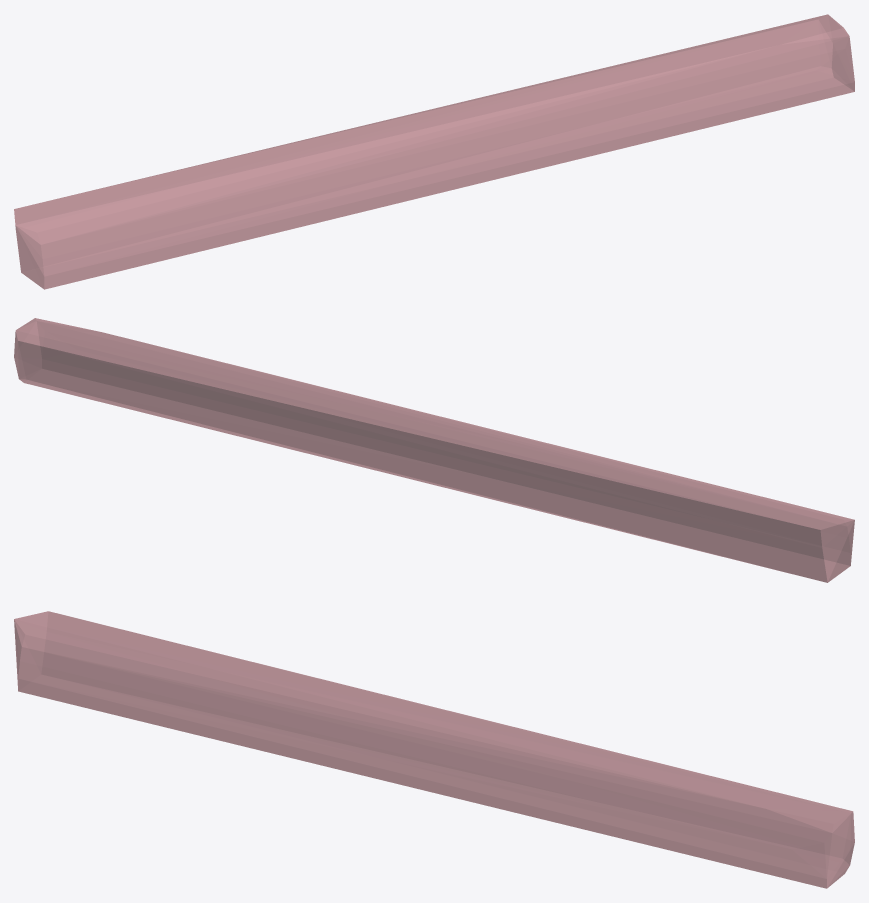
3 renders of one model, top to bottom at view 1: azimuth 30°, elevation 25°; view 2: azimuth 150°, elevation 25°; view 3: azimuth 330°, elevation 25°, orthographic.
Parts seen in each view (by area): view 1: Shape_IndexedFaceSet.004_Shape_IndexedFaceSet.4677; view 2: Shape_IndexedFaceSet.004_Shape_IndexedFaceSet.4677; view 3: Shape_IndexedFaceSet.004_Shape_IndexedFaceSet.4677.
Boxes of the visible parts, bbox=[...] form: Shape_IndexedFaceSet.004_Shape_IndexedFaceSet.4677: bbox=[14, 14, 854, 289]; Shape_IndexedFaceSet.004_Shape_IndexedFaceSet.4677: bbox=[14, 318, 854, 582]; Shape_IndexedFaceSet.004_Shape_IndexedFaceSet.4677: bbox=[14, 611, 854, 888].
Bounding box in the file's own units: 1.18 × 0.0808 × 0.0748.
